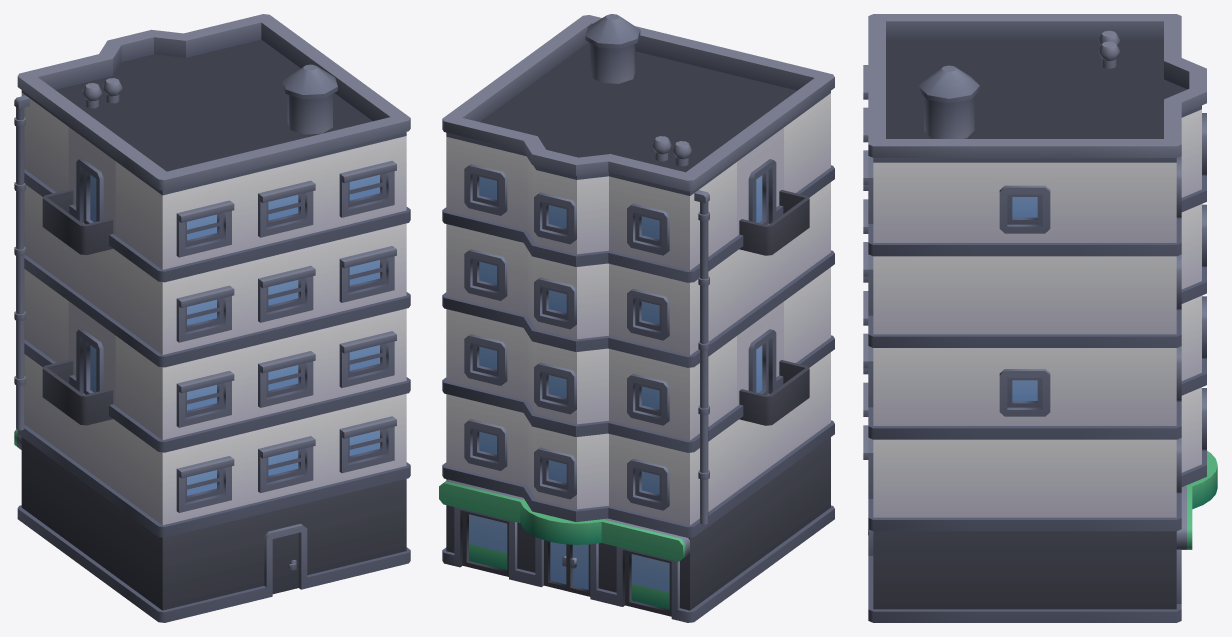
The model's file is building-l.glb.
3 views of the same model, side by side, from view 1: azimuth 30°, elevation 25°; view 2: azimuth 150°, elevation 25°; view 3: azimuth 270°, elevation 25° (orthographic). The views are drawn at different scales.
Visible parts, largest first — view 1: building-l; view 2: building-l; view 3: building-l.
Boxes of the visible parts, x1=… form: building-l: x1=14, y1=14, x2=410, y2=622; building-l: x1=439, y1=14, x2=834, y2=622; building-l: x1=863, y1=14, x2=1217, y2=622.
Size of the model in its own units: 1.37 by 2.27 by 1.4.
Materials: 1 (1 with a texture image).
